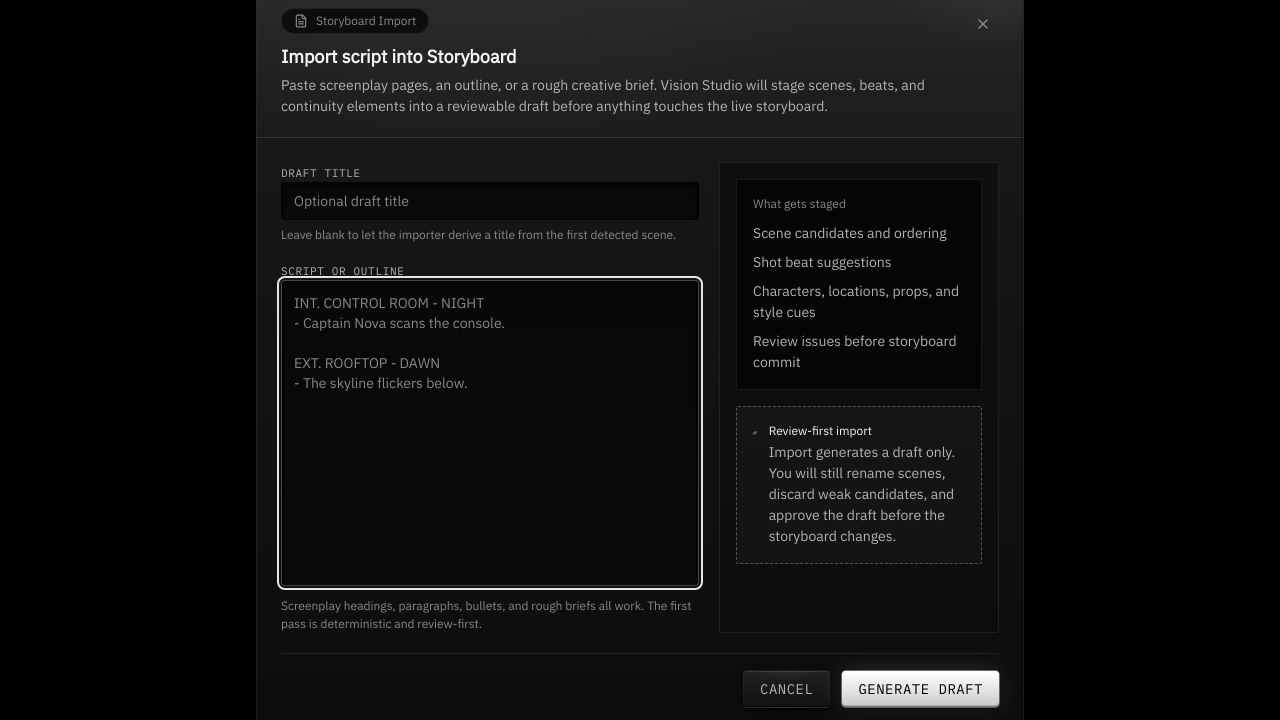
Test: ScriptImportDialog › validates empty source text before generating
What coordinates should you click on to do the following:
click the button "Generate Draft"
I would click on:
 (921, 689)
Its box is [842,671,999,707].
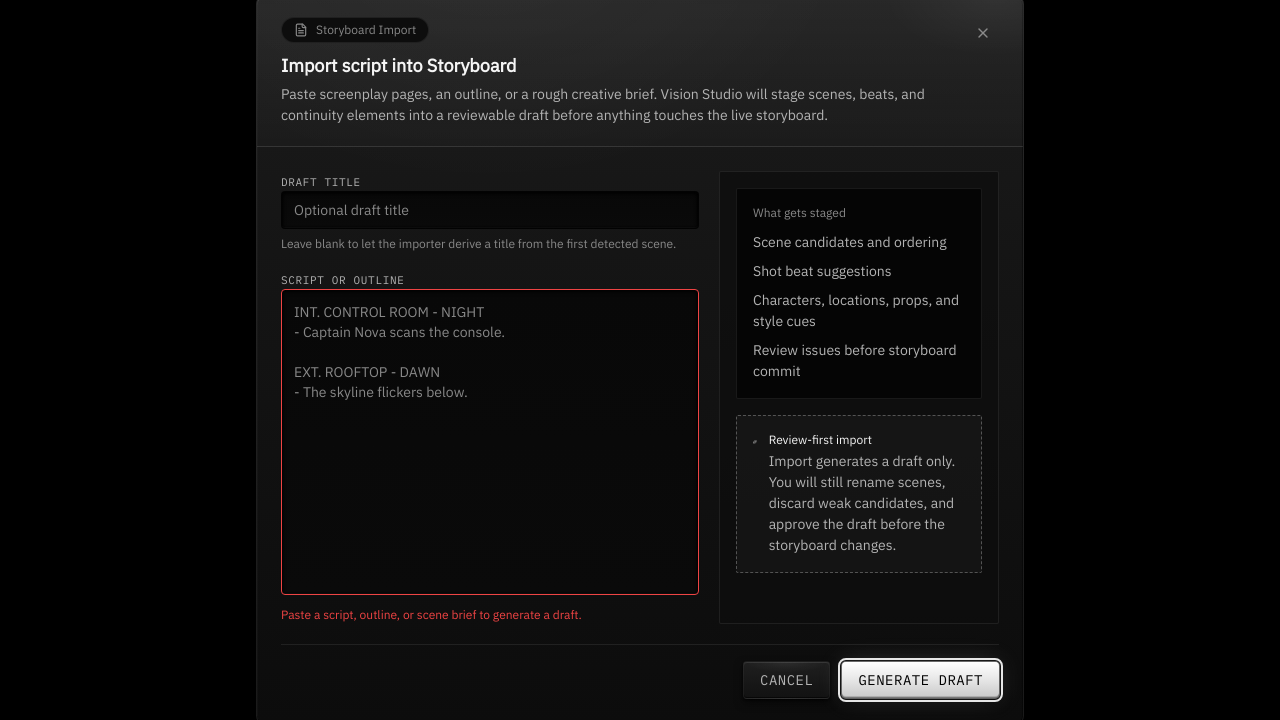
Check: the text "Paste a script, outline, or scene brief to generate a draft." is shown, box [281,607,582,622]
